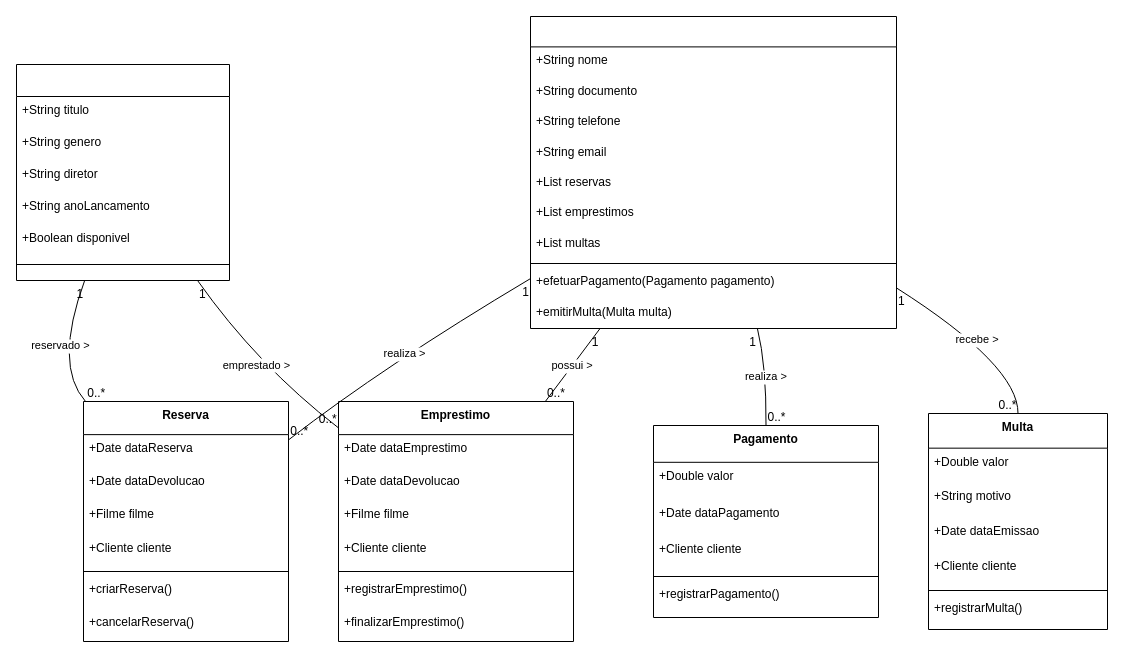
This 1124x658 diagram has some shape labels left out. The box of each missing label's shape, as (x1, y1, x2, y2) in pixels:
Cliente: (530, 16, 896, 328)
Filme: (16, 64, 230, 280)
